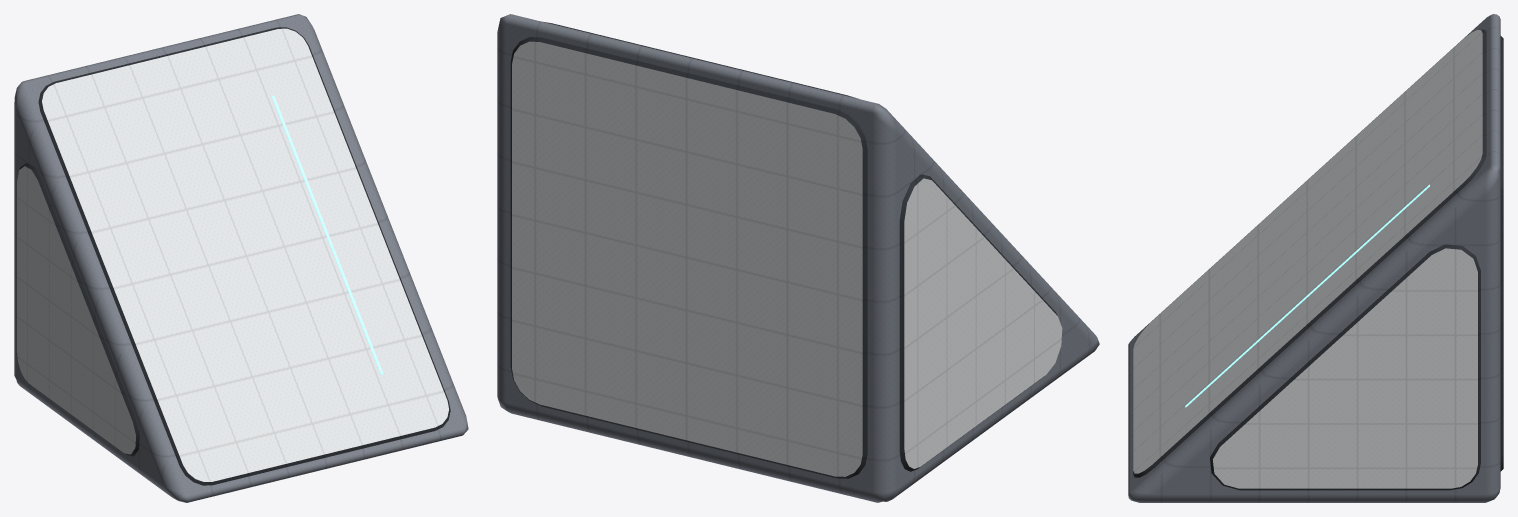
Rendered from R4B_Wedge.glb.
3 views of the same model, side by side, from view 1: azimuth 30°, elevation 25°; view 2: azimuth 150°, elevation 25°; view 3: azimuth 270°, elevation 25° (orthographic). The views are drawn at different scales.
Visible parts, largest first — view 1: R4B_Wedge; view 2: R4B_Wedge; view 3: R4B_Wedge.
Boxes of the visible parts, bbox=[...] form: R4B_Wedge: bbox=[14, 14, 468, 502]; R4B_Wedge: bbox=[497, 14, 1099, 502]; R4B_Wedge: bbox=[1128, 14, 1503, 502].
Bounding box in the file's own units: 0.52 × 0.4985 × 0.4985.
Materials: 4 (3 with a texture image).
